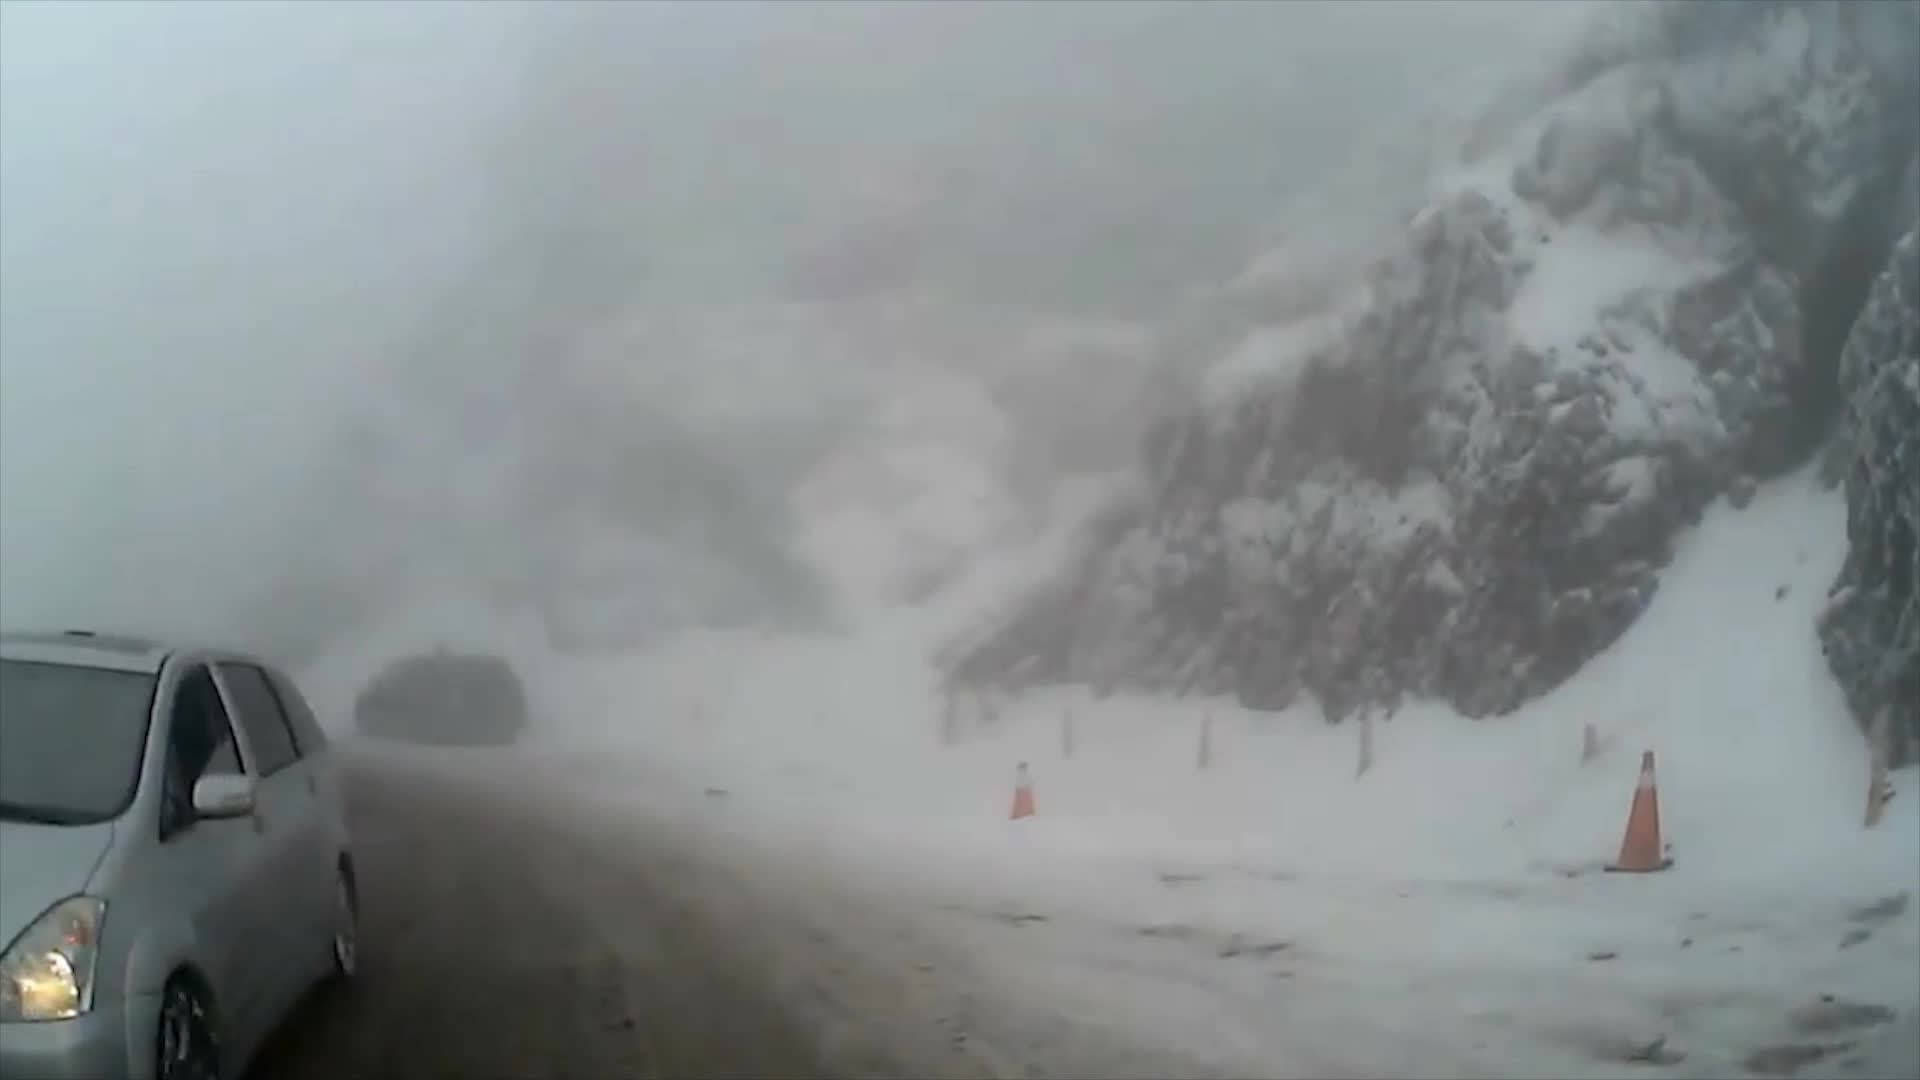vehicle: (0, 629, 367, 1080), (352, 650, 530, 749)
